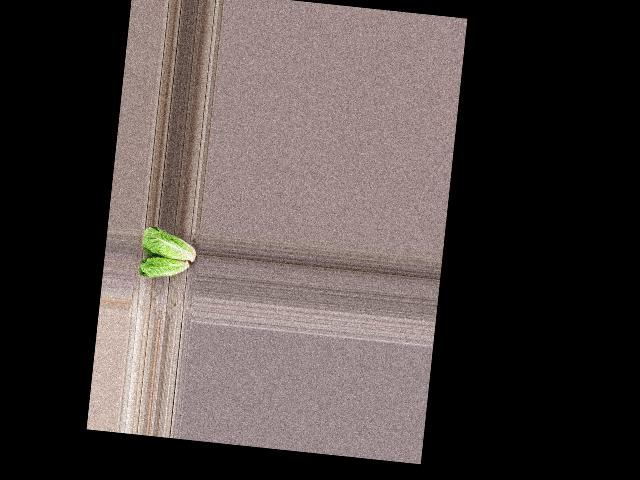lettuce: (138, 224, 201, 262)
